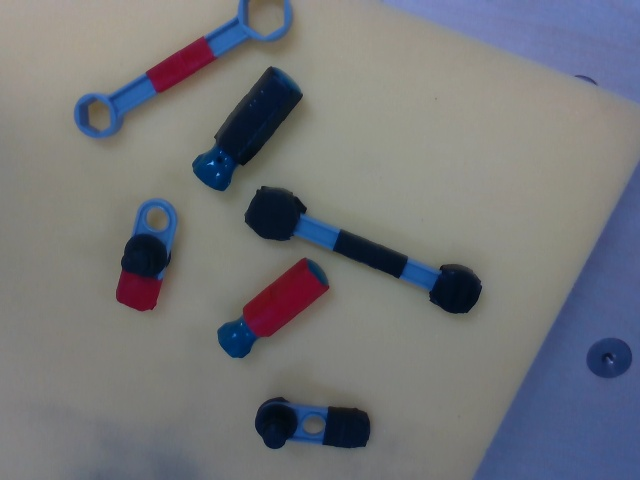part_1_good: (111, 196, 181, 316)
